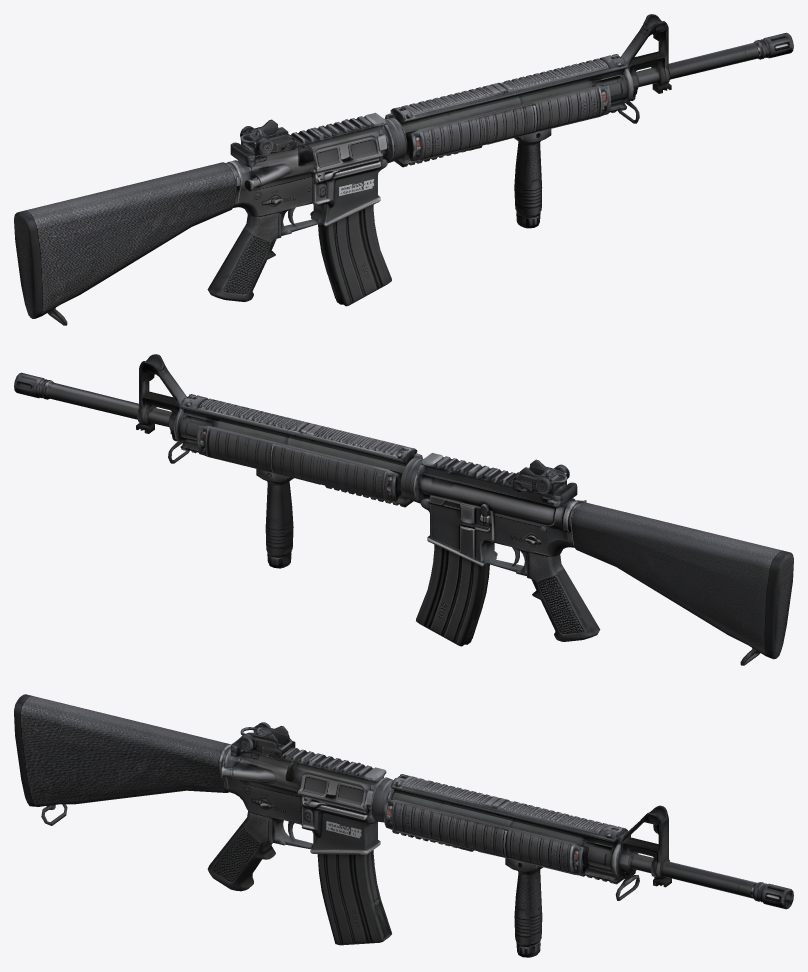
3 views of the same model, one above another, from view 1: azimuth 30°, elevation 25°; view 2: azimuth 150°, elevation 25°; view 3: azimuth 330°, elevation 25° (orthographic).
Parts seen in each view (by area): view 1: tripo_node_8f65c7ae-e2c4-40df-a80d-856b4a277589; view 2: tripo_node_8f65c7ae-e2c4-40df-a80d-856b4a277589; view 3: tripo_node_8f65c7ae-e2c4-40df-a80d-856b4a277589.
Boxes of the visible parts, x1,y1,x2,y2 form: tripo_node_8f65c7ae-e2c4-40df-a80d-856b4a277589: (14, 14, 793, 325); tripo_node_8f65c7ae-e2c4-40df-a80d-856b4a277589: (14, 354, 793, 665); tripo_node_8f65c7ae-e2c4-40df-a80d-856b4a277589: (14, 694, 793, 957).
Bounding box in the file's own units: 0.9995 × 0.2593 × 0.0728.
Materials: 1 (1 with a texture image).
